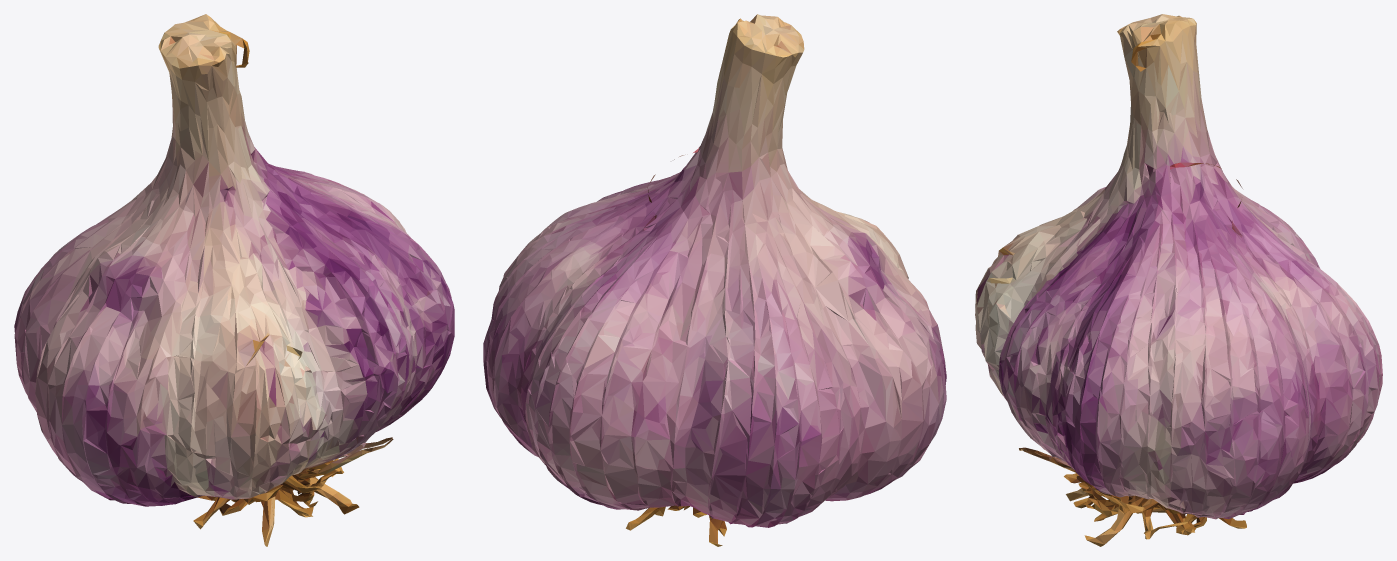
File: garlic.glb
3 renders of one model, left to right at view 1: azimuth 30°, elevation 25°; view 2: azimuth 150°, elevation 25°; view 3: azimuth 270°, elevation 25°, orthographic. The views are drawn at different scales.
Visible parts, largest first — view 1: geometry_0; view 2: geometry_0; view 3: geometry_0.
Part boxes in pixels (x1=…): geometry_0: x1=14, y1=14, x2=454, y2=546; geometry_0: x1=483, y1=14, x2=946, y2=546; geometry_0: x1=975, y1=14, x2=1382, y2=546.
Size of the model in its own units: 0.0507 by 0.062 by 0.0477.
1 material, 1 textured.
